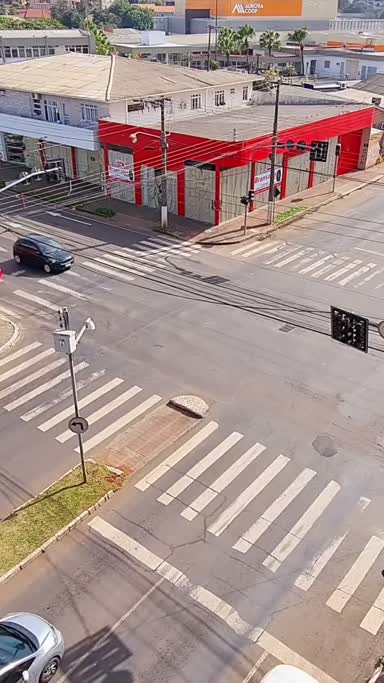car: (0, 604, 65, 682), (10, 229, 79, 279)
